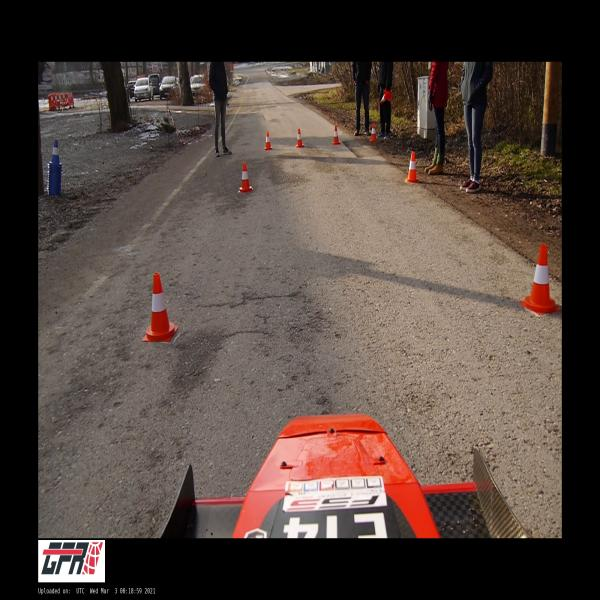blue_cone: (49, 140, 61, 166)
orange_cone: (520, 244, 561, 315), (143, 274, 178, 341), (405, 152, 419, 182), (239, 162, 252, 192), (380, 88, 392, 103), (296, 128, 304, 148), (264, 131, 272, 150), (332, 125, 340, 144), (370, 122, 377, 142)
